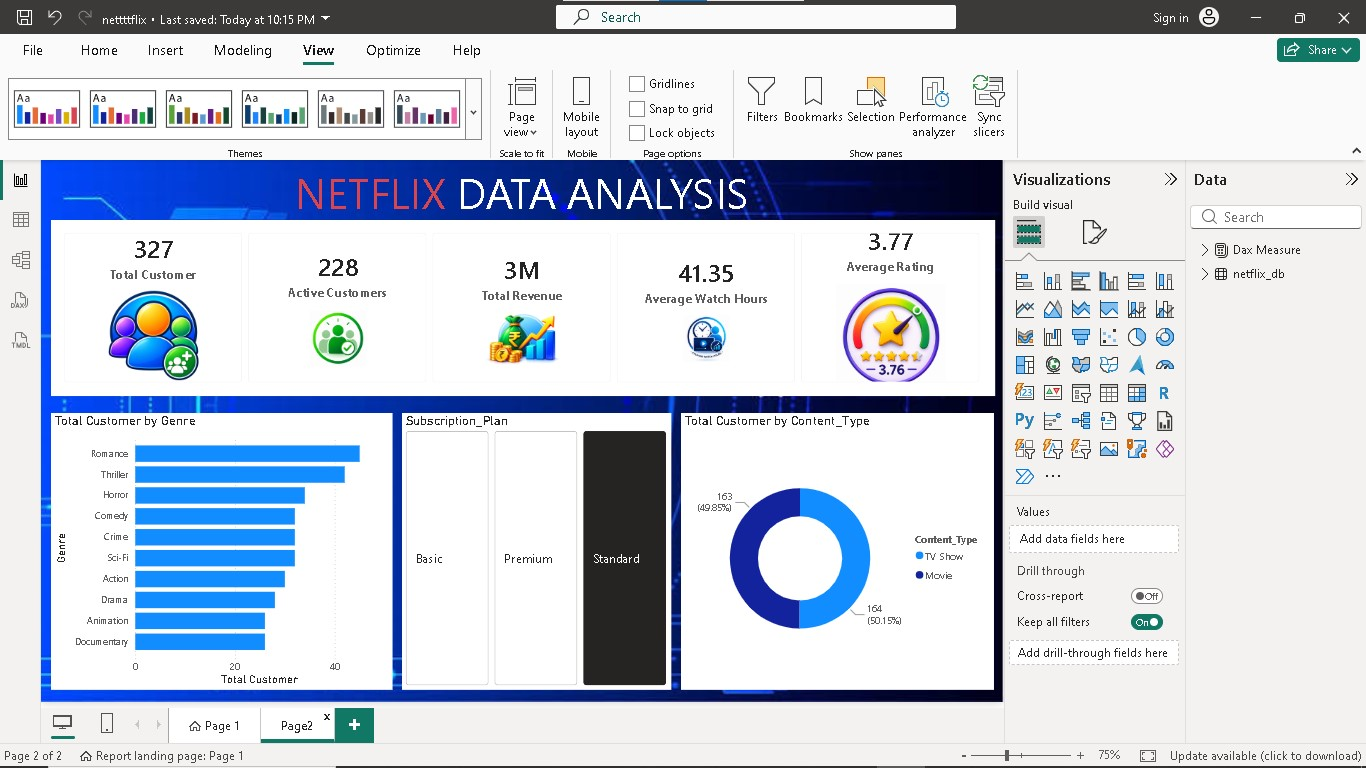

Layout of this report page (visuals, bound fields, positions):
{"tool":"powerbi","page":{"name":"Page2","canvas":[1280,720],"ordinal":1},"visuals":[{"type":"textbox","box":[0,0,1280,92.4],"z":0},{"type":"cardVisual","fields":{"Data":["Dax Measure.Total Customer","Dax Measure.Active Customers","Dax Measure.Total Revenue","Dax Measure.Average Watch Hours","Dax Measure.Average Rating"]},"box":[12.7,79.7,1254.7,233.6],"z":1000},{"type":"clusteredBarChart","fields":{"Category":["netflix_db.Genre"],"Y":["Dax Measure.Total Customer"]},"box":[12.7,336.7,454.4,367.5],"z":2000},{"type":"donutChart","fields":{"Category":["netflix_db.Content_Type"],"Y":["Dax Measure.Total Customer"]},"box":[850.9,336.7,416.4,367.5],"z":3000},{"type":"advancedSlicerVisual","fields":{"Values":["netflix_db.Subscription_Plan"]},"box":[479.8,336.7,358.5,367.5],"z":4000}]}

Visuals, with their boxes on the page's 1280x720 design canvas (x1, y1, x2, y2). These are canvas units, not pixel positions in the 1366x768 screenshot, which may show the page scaled, cropped or inside an application window:
textbox: 0/0/1280/92
cardVisual - Dax Measure.Total Customer x Dax Measure.Active Customers: 13/80/1267/313
clusteredBarChart - netflix_db.Genre x Dax Measure.Total Customer: 13/337/467/704
donutChart - netflix_db.Content_Type x Dax Measure.Total Customer: 851/337/1267/704
advancedSlicerVisual - netflix_db.Subscription_Plan: 480/337/838/704
